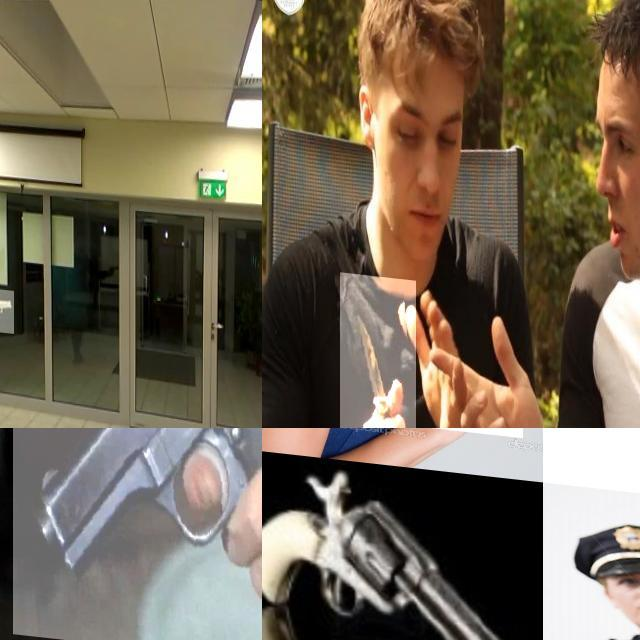-: (339, 270, 416, 428)
gun-knife-thesis - v11 Yolov5 augmented: (12, 428, 262, 640), (262, 454, 544, 640), (361, 428, 522, 525), (262, 595, 539, 640), (0, 281, 19, 328)
